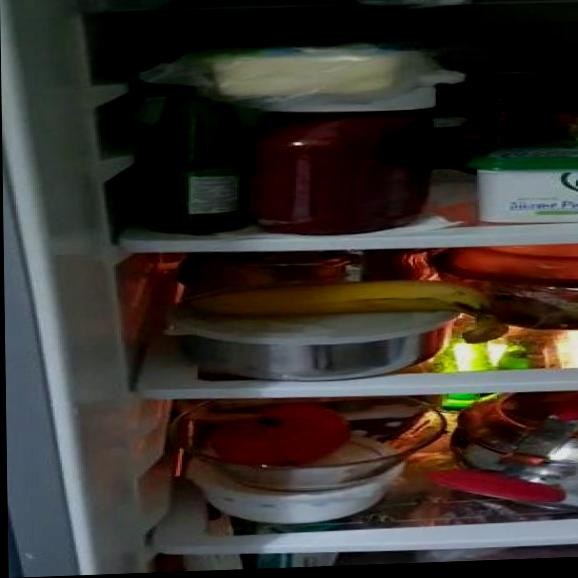banana: (192, 278, 492, 322)
cheese: (210, 45, 403, 95), (471, 143, 578, 223)
mineral water: (147, 86, 244, 231)
tomato: (219, 406, 349, 461)
tomato paste: (244, 102, 428, 239)
